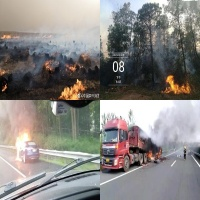fire: (58, 78, 86, 99), (160, 74, 190, 93), (15, 133, 29, 160), (67, 60, 81, 73), (0, 32, 21, 40), (45, 59, 53, 73), (0, 66, 10, 77), (34, 33, 52, 38), (154, 149, 161, 160), (146, 150, 152, 160), (82, 53, 90, 60), (2, 82, 7, 92)
